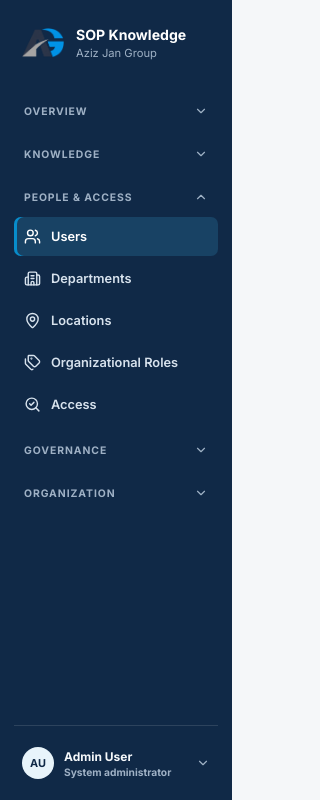
Test: AppShell role-aware admin navigation › shows the full context-aware workspace for system administrators
Click the button "Knowledge". click: (116, 154)
box: [14,137,218,171]
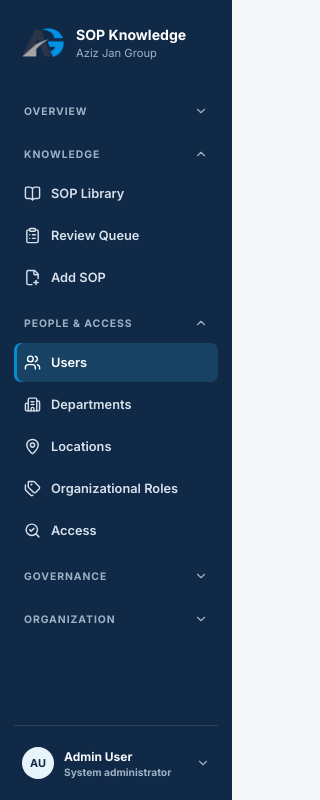
Expected: the link "SOP Library" is shown, [24,185,124,202]
Expected: the link "Add SOP" is shown, [24,269,106,286]
Click the button "Governance". click: (116, 576)
box: [14,559,218,593]
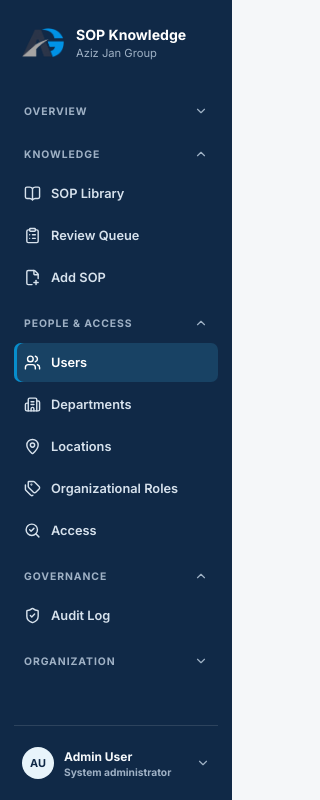
Expected: the link "Audit Log" is shown, [24,607,110,624]
